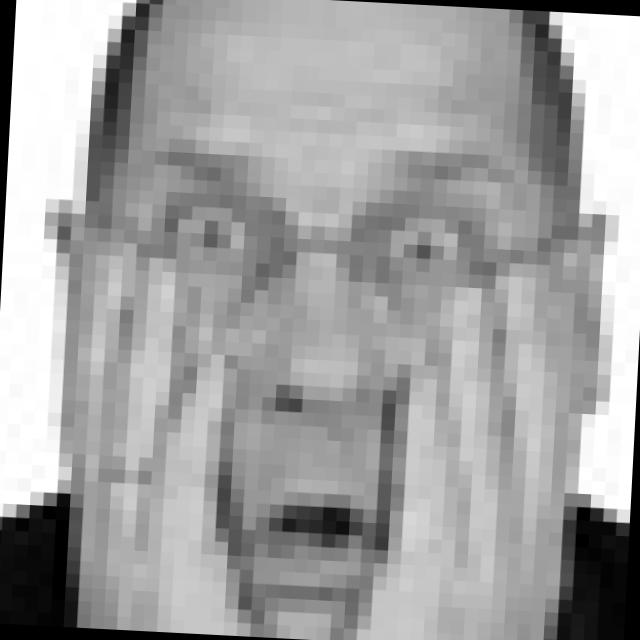fear: (108, 122, 518, 625)
